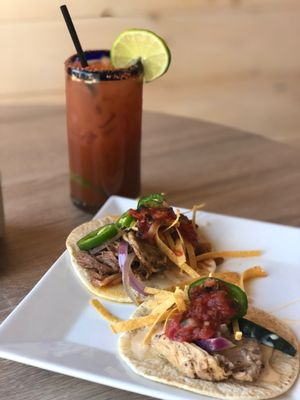pizza: (63, 51, 144, 214)
